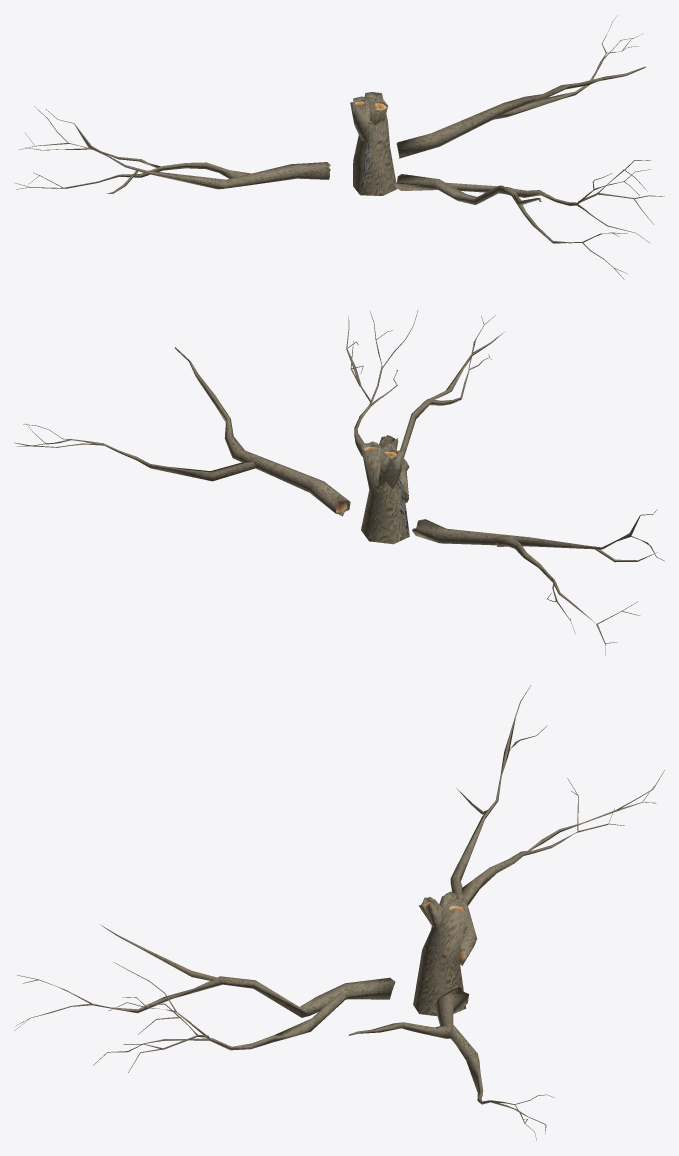
Rendered from jungle_fallentree_noleaf_4.glb.
3 views of the same model, one above another, from view 1: azimuth 30°, elevation 25°; view 2: azimuth 150°, elevation 25°; view 3: azimuth 270°, elevation 25° (orthographic). The views are drawn at different scales.
Visible parts, largest first — view 1: jungle_fallentree_noleaf_4; view 2: jungle_fallentree_noleaf_4; view 3: jungle_fallentree_noleaf_4.
Part boxes in pixels (bbox=[...]): jungle_fallentree_noleaf_4: bbox=[14, 15, 664, 279]; jungle_fallentree_noleaf_4: bbox=[14, 310, 664, 655]; jungle_fallentree_noleaf_4: bbox=[14, 685, 664, 1140].
Size of the model in its own units: 16.36 by 3.14 by 12.43.
Materials: 2 (2 with a texture image).
